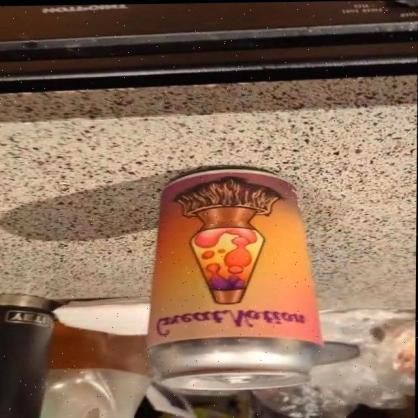can: (150, 163, 324, 393)
